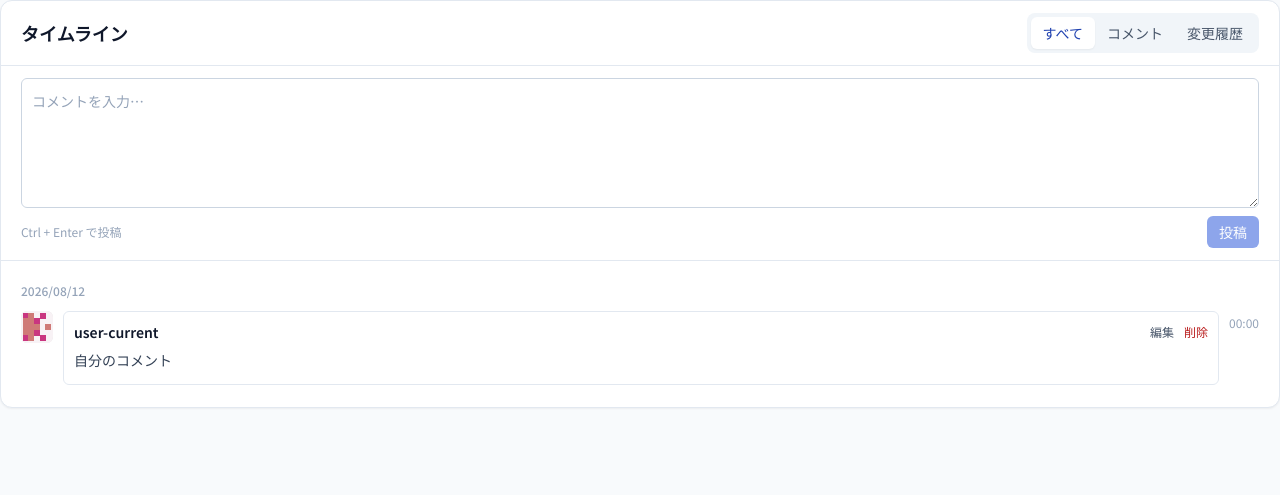
Test: TaskTimeline › コメント編集をキャンセルすると本文表示に戻る
What coordinates should you click on to do the following:
click the button with aria-label "自分のコメントを編集"
I would click on:
 (1162, 332)
Its box is top-left (1150, 324), bottom-right (1174, 340).
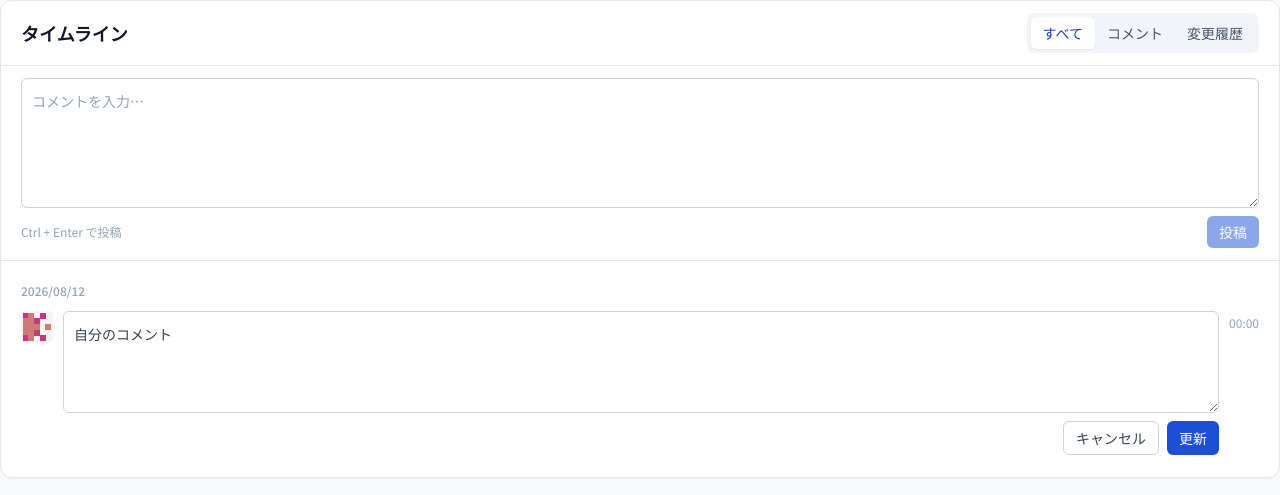
What coordinates should you click on to do the following:
click the button "キャンセル"
I would click on:
 (1111, 438)
Its box is top-left (1063, 421), bottom-right (1159, 455).
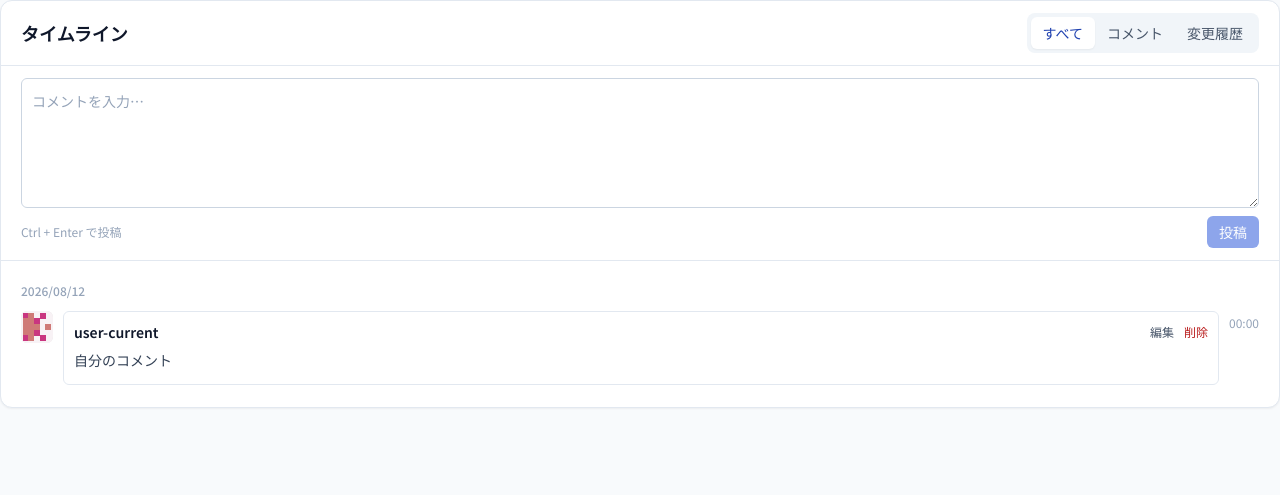
Expected: the element showing "user-current 編集 削除 自分のコメント" is shown, top-left (63, 311), bottom-right (1219, 385)
